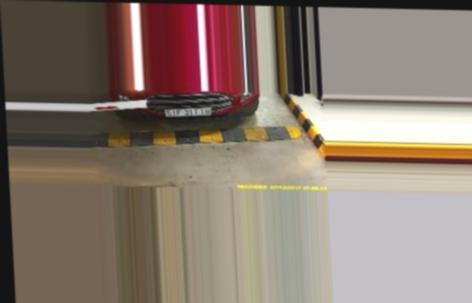License_Plate: (164, 105, 213, 121)
